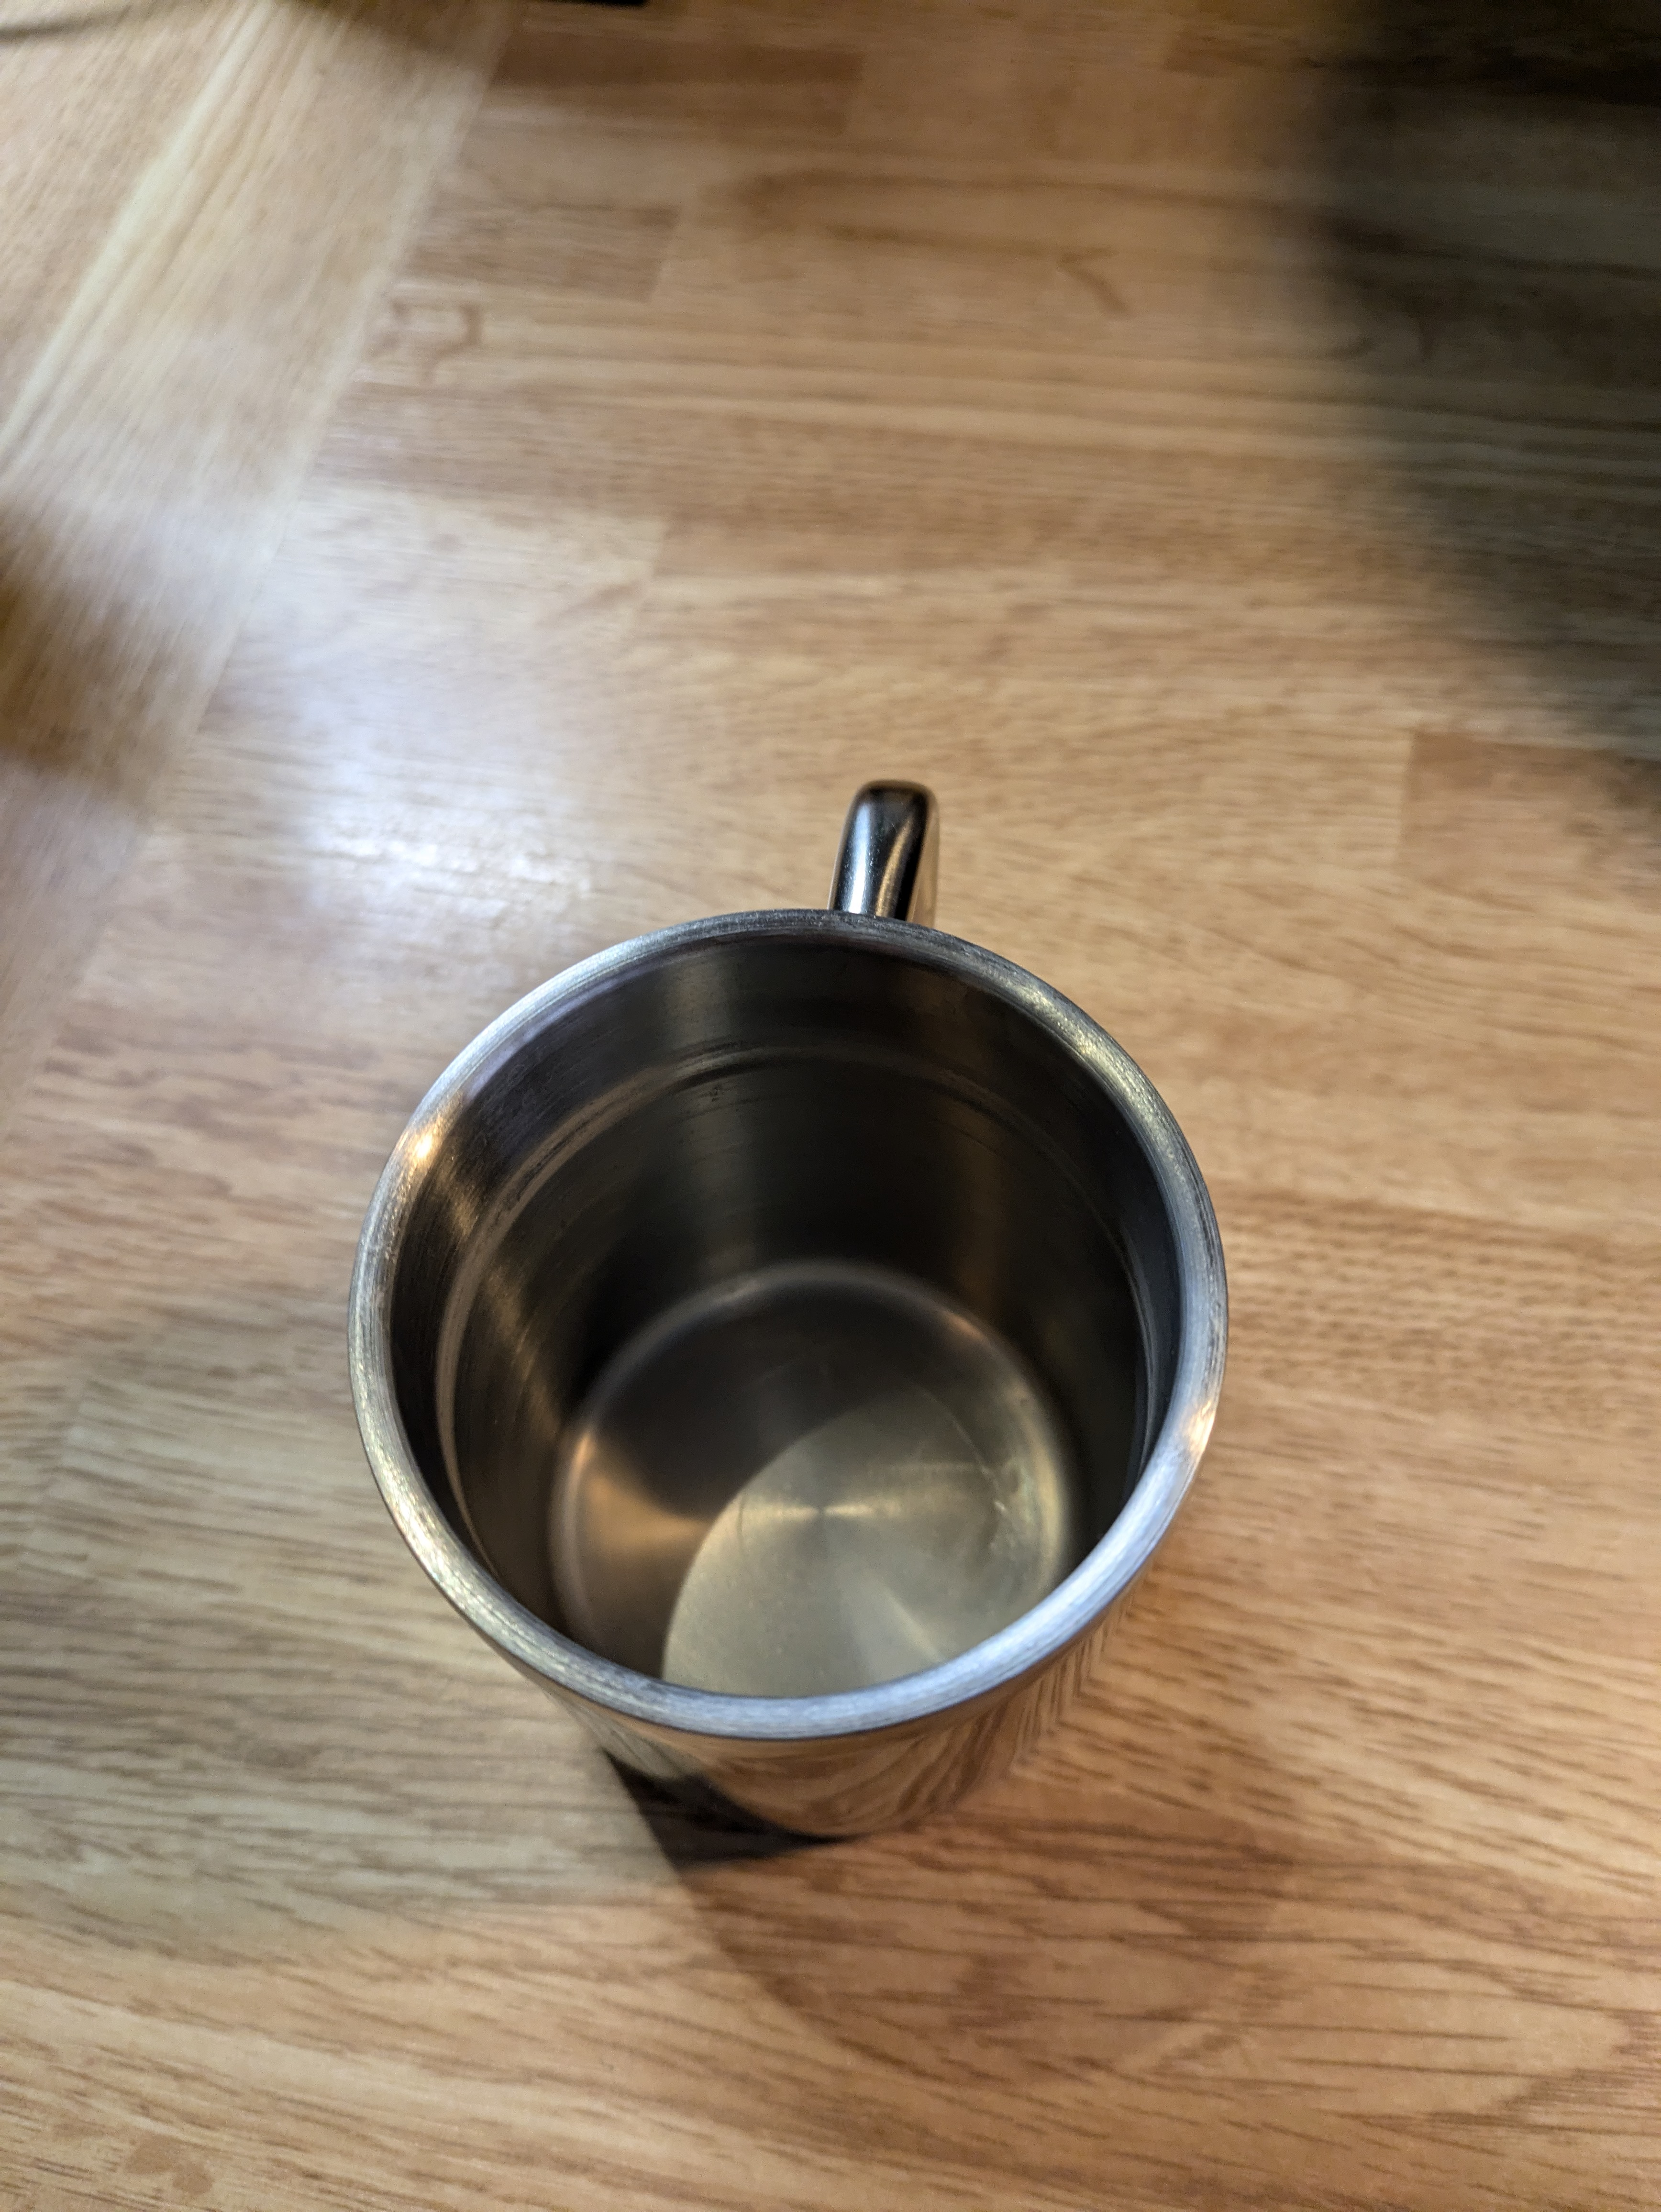mok: (286, 740, 1298, 1938)
